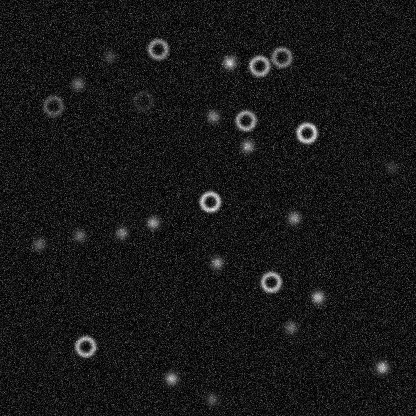Ring: (73, 334, 97, 358), (145, 36, 169, 60), (41, 93, 65, 117), (131, 88, 155, 112), (269, 45, 293, 69), (247, 53, 271, 77), (258, 269, 282, 293), (294, 120, 318, 144), (233, 108, 257, 132), (197, 189, 221, 213)
Spot: (204, 108, 220, 124), (239, 138, 255, 154), (309, 288, 325, 304), (31, 236, 47, 252), (101, 48, 117, 64), (113, 224, 129, 240), (383, 158, 399, 174), (203, 391, 219, 407), (163, 370, 179, 386), (144, 214, 160, 230), (71, 227, 87, 243), (221, 54, 237, 70), (208, 254, 224, 270), (285, 209, 301, 225), (69, 76, 85, 92), (282, 319, 298, 335), (373, 359, 389, 375)
